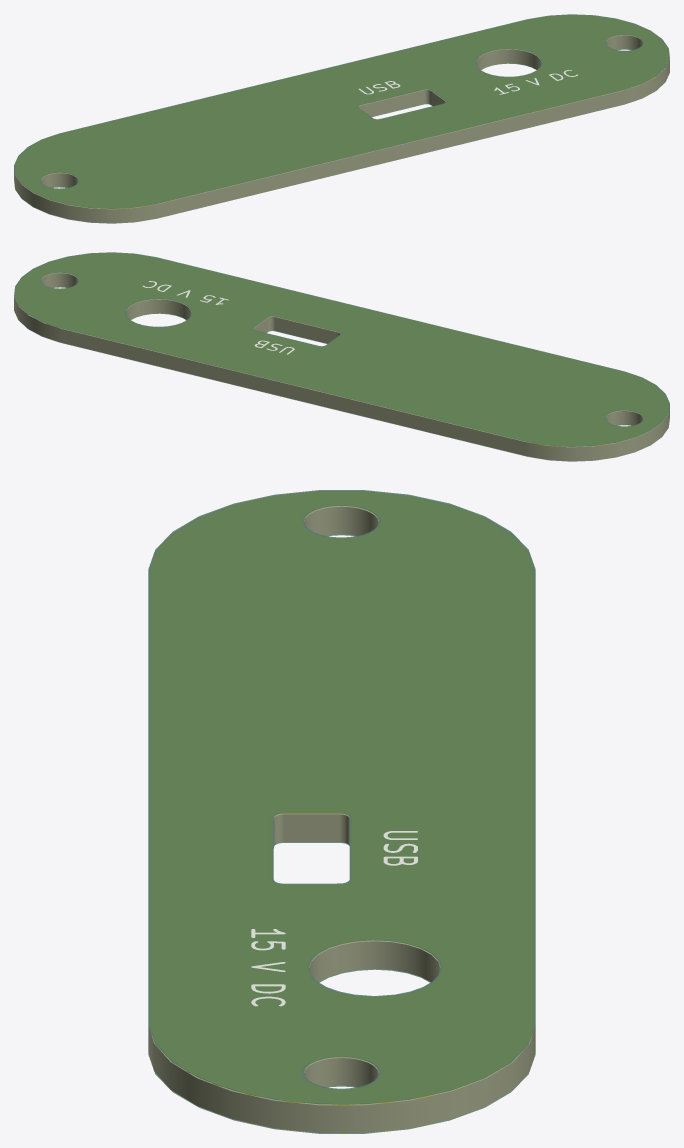
Rendered from back_panel.glb.
The picture shows the model from 3 angles, top to bottom: view 1: azimuth 30°, elevation 25°; view 2: azimuth 150°, elevation 25°; view 3: azimuth 270°, elevation 25°; orthographic projection. The views are drawn at different scales.
Parts seen in each view (by area): view 1: backpanel_soldermask (×2), backpanel_copper, backpanel_PCB, backpanel_silkscreen; view 2: backpanel_soldermask (×2), backpanel_copper, backpanel_PCB, backpanel_silkscreen; view 3: backpanel_soldermask (×2), backpanel_copper, backpanel_PCB, backpanel_silkscreen.
Part boxes in pixels (left/top/right/bottom): backpanel_soldermask (×2): left=14, top=14, right=669, bottom=223; backpanel_copper: left=16, top=15, right=668, bottom=222; backpanel_PCB: left=14, top=35, right=669, bottom=223; backpanel_silkscreen: left=358, top=70, right=577, bottom=94; backpanel_soldermask (×2): left=14, top=252, right=669, bottom=461; backpanel_copper: left=16, top=253, right=668, bottom=460; backpanel_PCB: left=14, top=272, right=669, bottom=461; backpanel_silkscreen: left=142, top=281, right=294, bottom=354; backpanel_soldermask (×2): left=148, top=490, right=535, bottom=1133; backpanel_copper: left=151, top=492, right=532, bottom=1133; backpanel_PCB: left=148, top=505, right=535, bottom=1132; backpanel_silkscreen: left=251, top=831, right=417, bottom=1006.
Size of the model in its own units: 0.0719 by 0.00163 by 0.0192.
